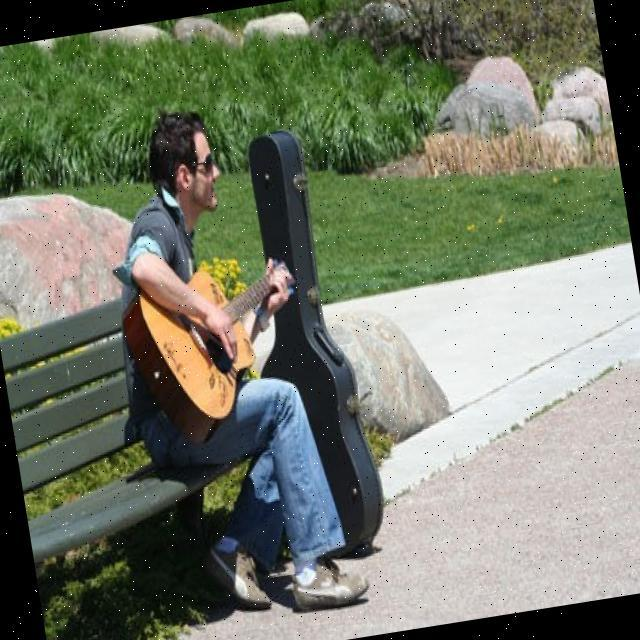acousticguitar: (123, 271, 270, 441)
